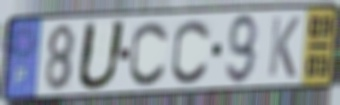8: (44, 22, 78, 94)
9: (225, 12, 262, 87)
C: (127, 19, 171, 88), (169, 17, 213, 86)
K: (266, 14, 302, 80)
U: (74, 19, 130, 93)
